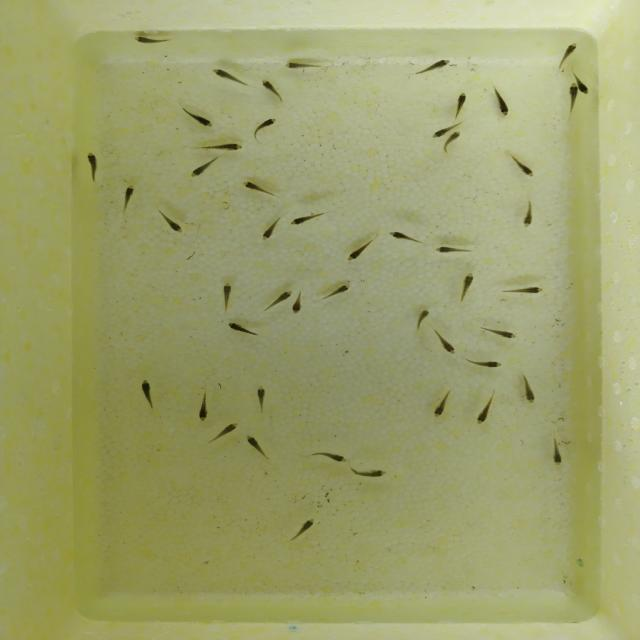fingerling: (469, 391, 504, 425), (472, 320, 524, 342), (287, 512, 319, 546), (496, 282, 555, 300), (151, 207, 189, 234), (426, 388, 459, 419), (412, 55, 459, 76), (178, 106, 218, 130), (208, 67, 250, 89), (514, 372, 542, 405), (242, 433, 275, 461), (135, 377, 161, 412), (430, 326, 460, 356), (249, 116, 281, 144), (257, 77, 290, 103), (488, 84, 514, 117), (240, 178, 279, 200), (259, 288, 292, 314), (456, 267, 478, 305), (344, 464, 396, 480), (196, 140, 247, 156), (316, 282, 353, 304), (507, 152, 536, 180), (546, 434, 569, 469), (249, 383, 273, 416), (218, 320, 264, 337), (344, 239, 374, 265), (130, 31, 175, 48), (195, 386, 215, 424), (82, 150, 105, 183), (464, 354, 506, 372), (184, 158, 218, 180), (279, 57, 325, 73), (556, 38, 580, 68), (387, 228, 426, 246), (256, 218, 283, 244), (213, 420, 240, 446), (306, 447, 348, 463), (215, 280, 235, 313), (516, 198, 535, 230), (286, 212, 325, 227), (452, 88, 469, 121), (427, 244, 475, 255), (412, 306, 431, 333), (563, 80, 578, 114), (119, 183, 135, 214), (446, 131, 464, 155), (291, 289, 306, 317), (577, 73, 595, 95), (426, 126, 446, 139)
